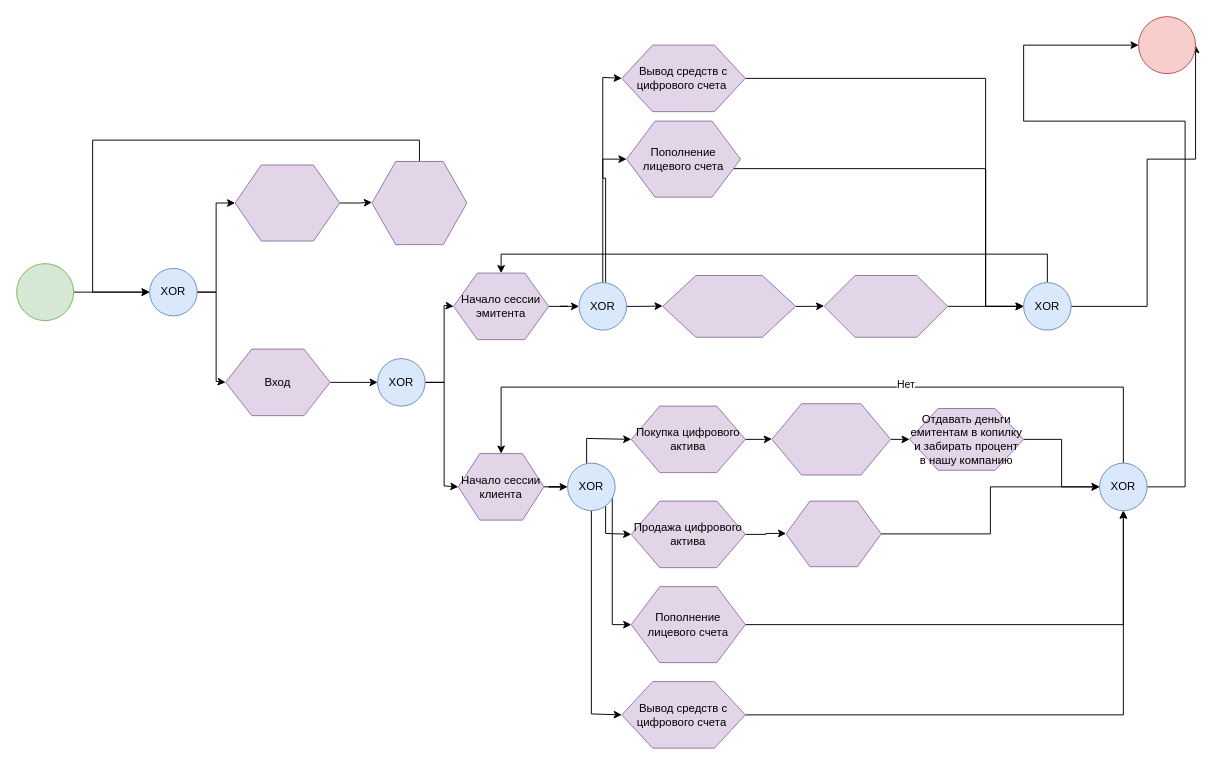
Image size: 1220x765. Some labels were removed from this diagram. The shapes that lost their labels are listed below. From the top down, each one's centre as x and y in pixels, then its label:
At [1167,45]: "END".
At [287,202]: "Регистрация".
At [419,203]: "Заполнение формы".
At [45,292]: "START".
At [729,306]: "Выпуск ЦФА".
At [885,306]: "Коллективный кредит".
At [831,439]: "Покупка по существующей лучшей цене на рынке".
At [833,533]: "Выставление цены".
